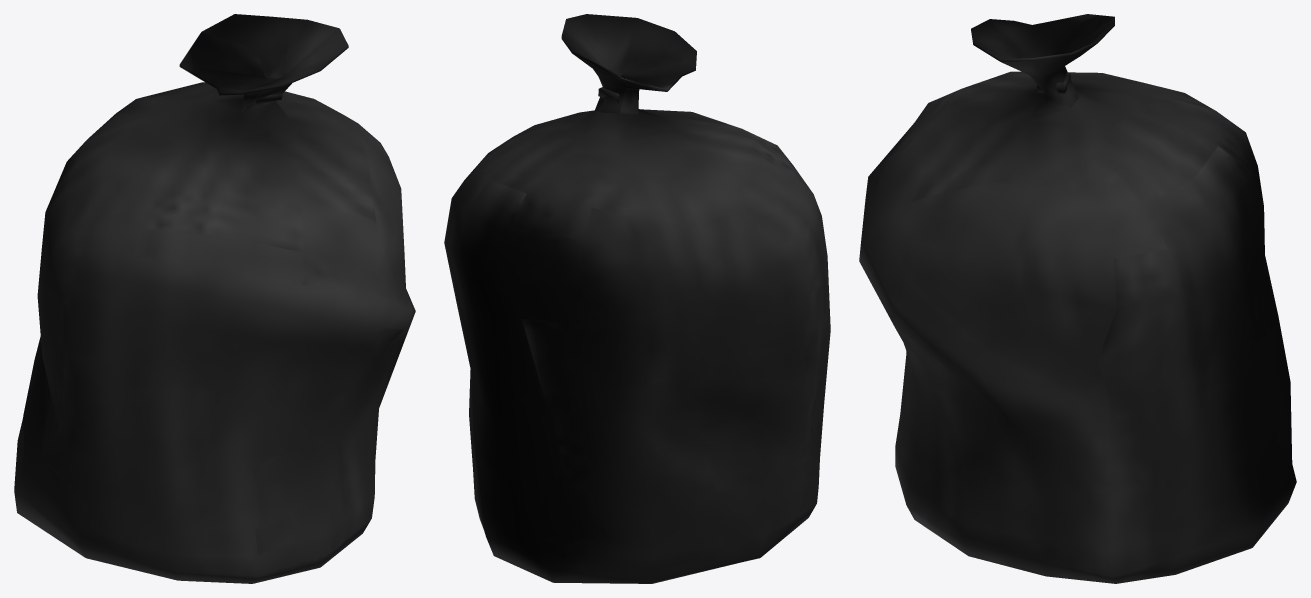
File: Garbage_Bag_03.fbx
The picture shows the model from 3 angles, left to right: view 1: azimuth 30°, elevation 25°; view 2: azimuth 150°, elevation 25°; view 3: azimuth 270°, elevation 25°; orthographic projection. The views are drawn at different scales.
Parts seen in each view (by area): view 1: Bag_05_low; view 2: Bag_05_low; view 3: Bag_05_low.
Boxes of the visible parts, x1,y1,x2,y2 form: Bag_05_low: (14,14,415,583); Bag_05_low: (444,14,830,583); Bag_05_low: (859,14,1296,583).
Size of the model in its own units: 45.85 by 63.57 by 48.58.
Materials: 1 (1 with a texture image).
